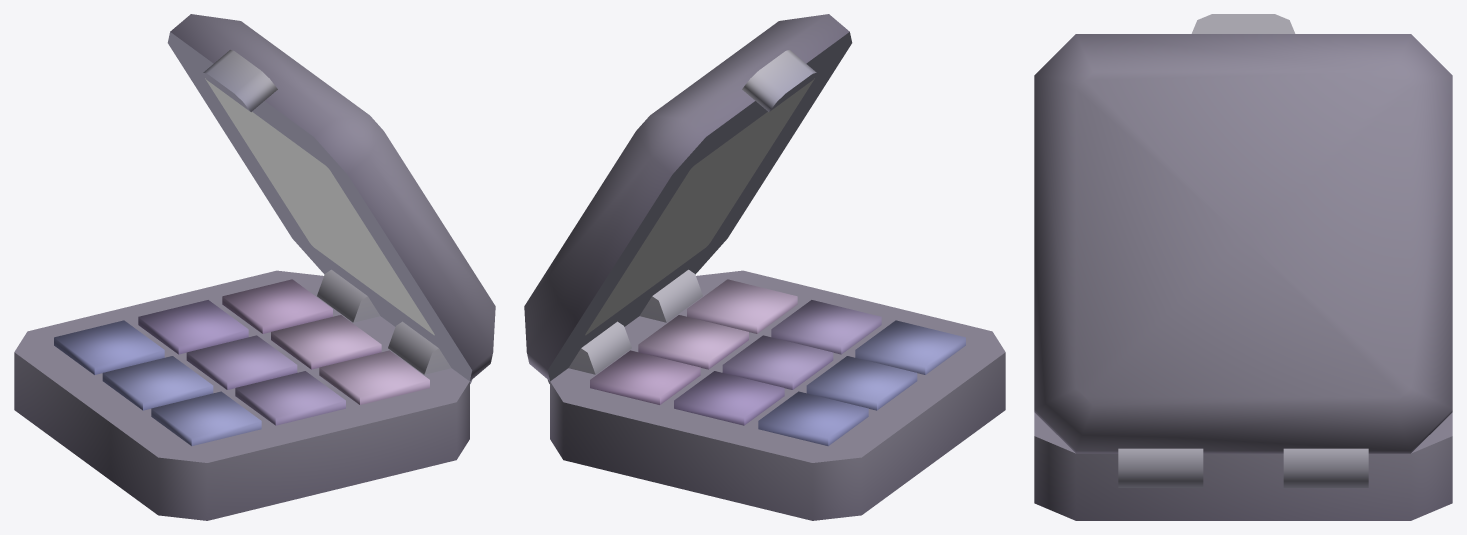
The model's file is makeup-palette-square-swatches.glb.
The picture shows the model from 3 angles, left to right: view 1: azimuth 30°, elevation 25°; view 2: azimuth 150°, elevation 25°; view 3: azimuth 270°, elevation 25°; orthographic projection. The views are drawn at different scales.
Parts seen in each view (by area): view 1: makeup-palette-square-swatches; view 2: makeup-palette-square-swatches; view 3: makeup-palette-square-swatches.
Part boxes in pixels (x1,y1,x2,y2): makeup-palette-square-swatches: [14, 14, 495, 520]; makeup-palette-square-swatches: [524, 14, 1005, 520]; makeup-palette-square-swatches: [1034, 14, 1452, 520].
Size of the model in its own units: 0.2207 by 0.2224 by 0.2.
